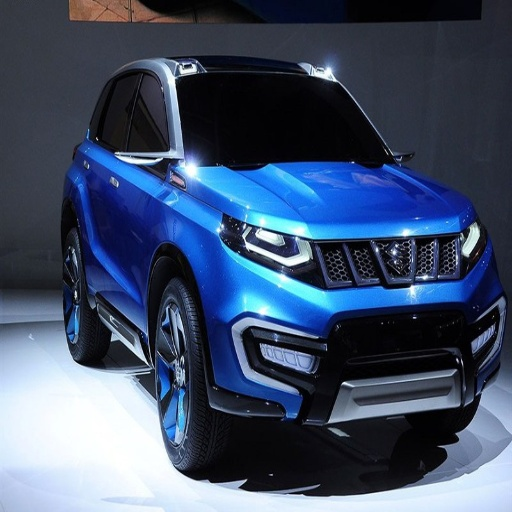front_bumper: (197, 234, 507, 425)
front_left_light: (440, 225, 487, 279)
front_right_door: (136, 71, 171, 158)
front_right_light: (219, 215, 319, 285)
